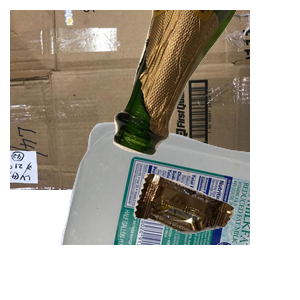cardboard: (10, 10, 250, 190)
glass: (111, 10, 300, 158)
plastic: (58, 120, 298, 300)
trash: (131, 171, 300, 300)
